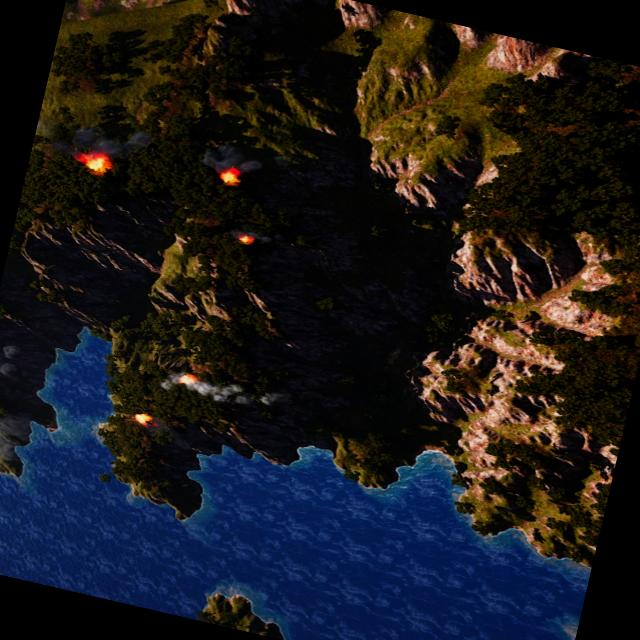fire: (78, 148, 114, 176), (172, 369, 200, 387), (220, 167, 243, 187), (133, 411, 154, 427), (241, 232, 258, 243)
smoke: (158, 362, 294, 421), (34, 109, 159, 172), (0, 404, 51, 469), (194, 136, 269, 180)
